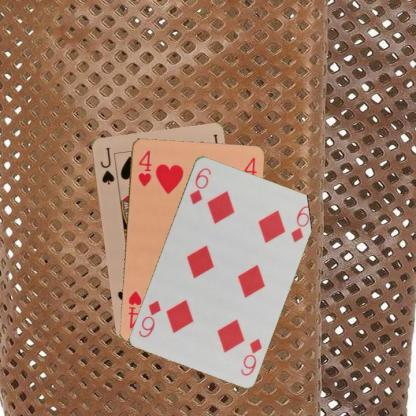4h: (135, 147, 153, 188)
6d: (238, 335, 264, 377), (187, 164, 212, 206)
Js: (97, 144, 116, 186)
